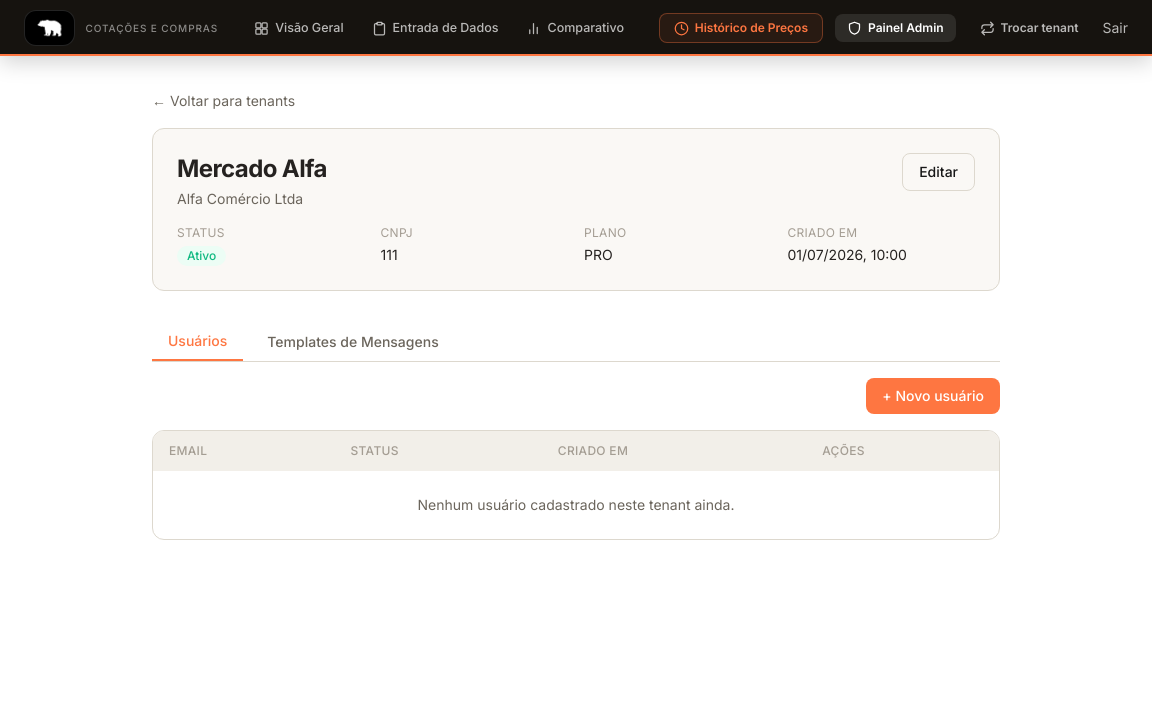
TenantDetalhePage — modal Fallback (sem campos legados de Meta Template) › abre sem os campos legados e salva conteúdo/ativo
Click the button "Templates de Mensagens" at (353,342), box [251, 323, 455, 361]
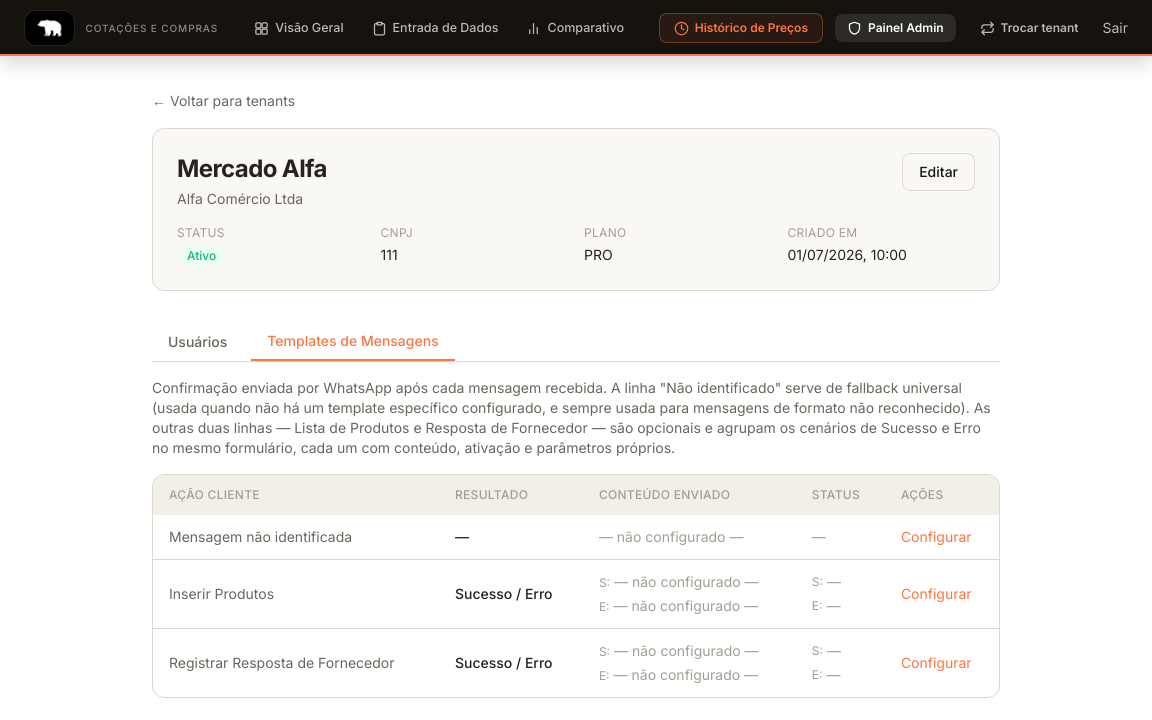
Check: the text "Mensagem não identificada" is shown, box [153, 515, 439, 560]
Click the button "Configurar" in the row of "Mensagem não identificada" at (936,537), box [901, 527, 972, 547]
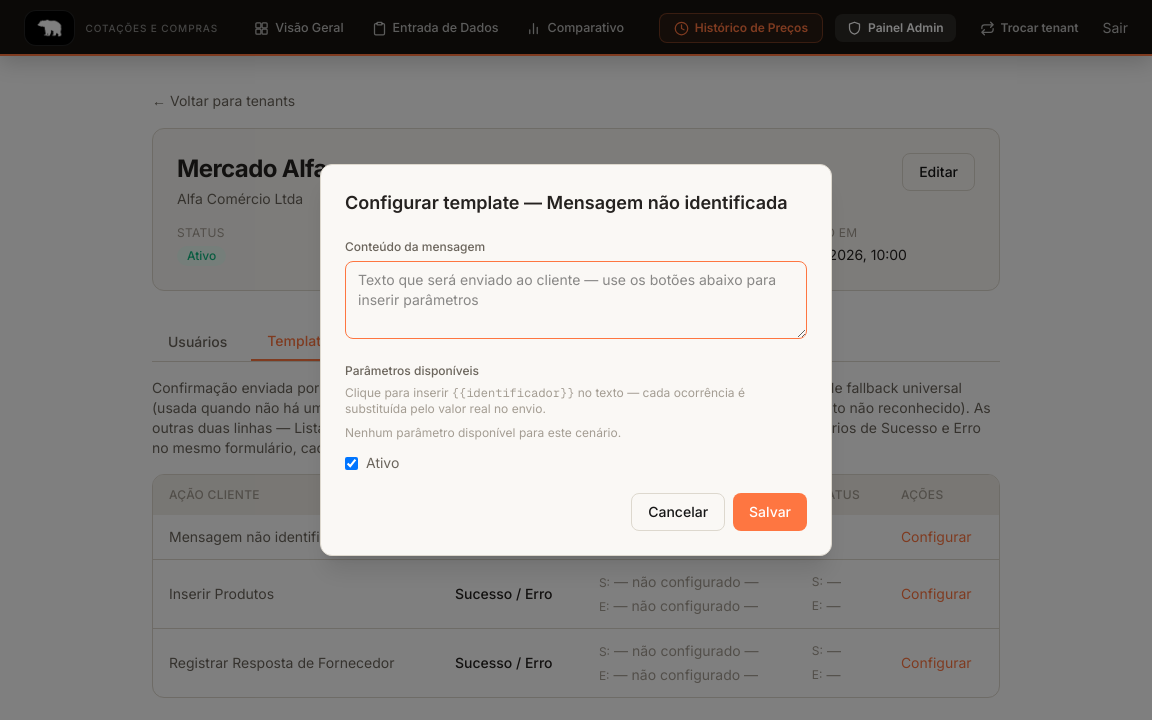
Replace the text in the text box with placeholder "Texto que será enviado ao cliente — use os botões abaixo para inserir parâmetros" with "Não entendi sua mensagem." at (576,300), box [345, 261, 807, 339]
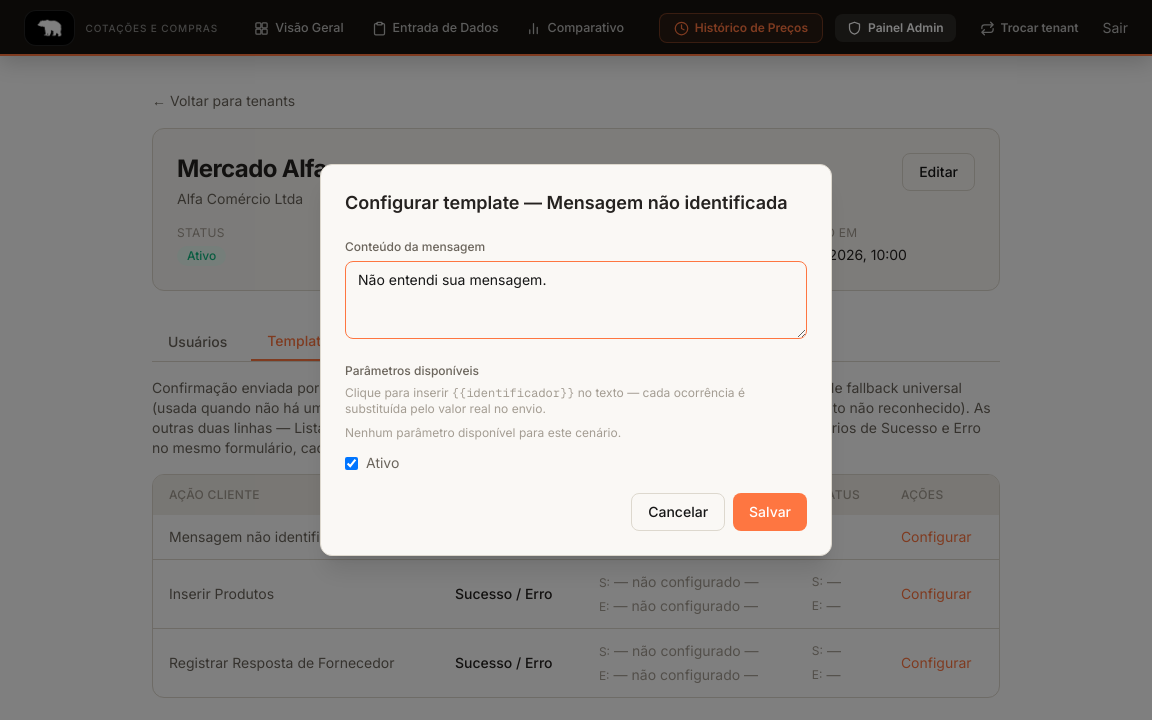
Click the button "Salvar" at (770,512), box [733, 493, 807, 531]
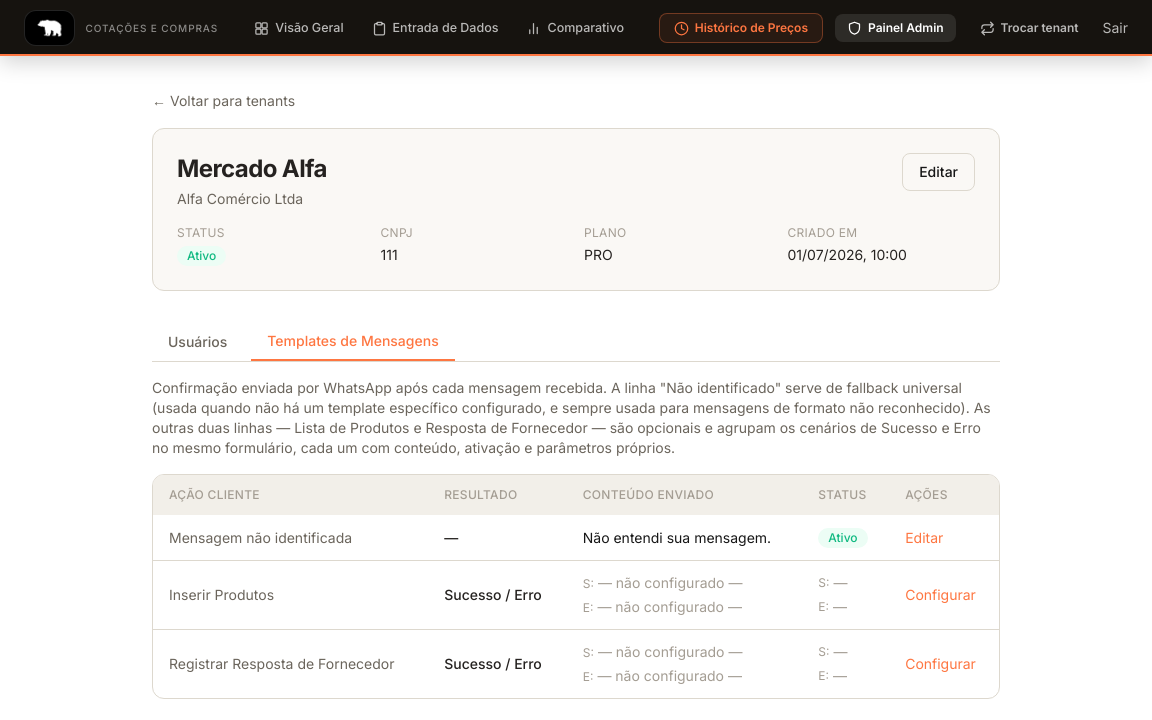
Check: the dialog is gone
Check: the text "Não entendi sua mensagem." is shown, box [583, 528, 771, 546]
